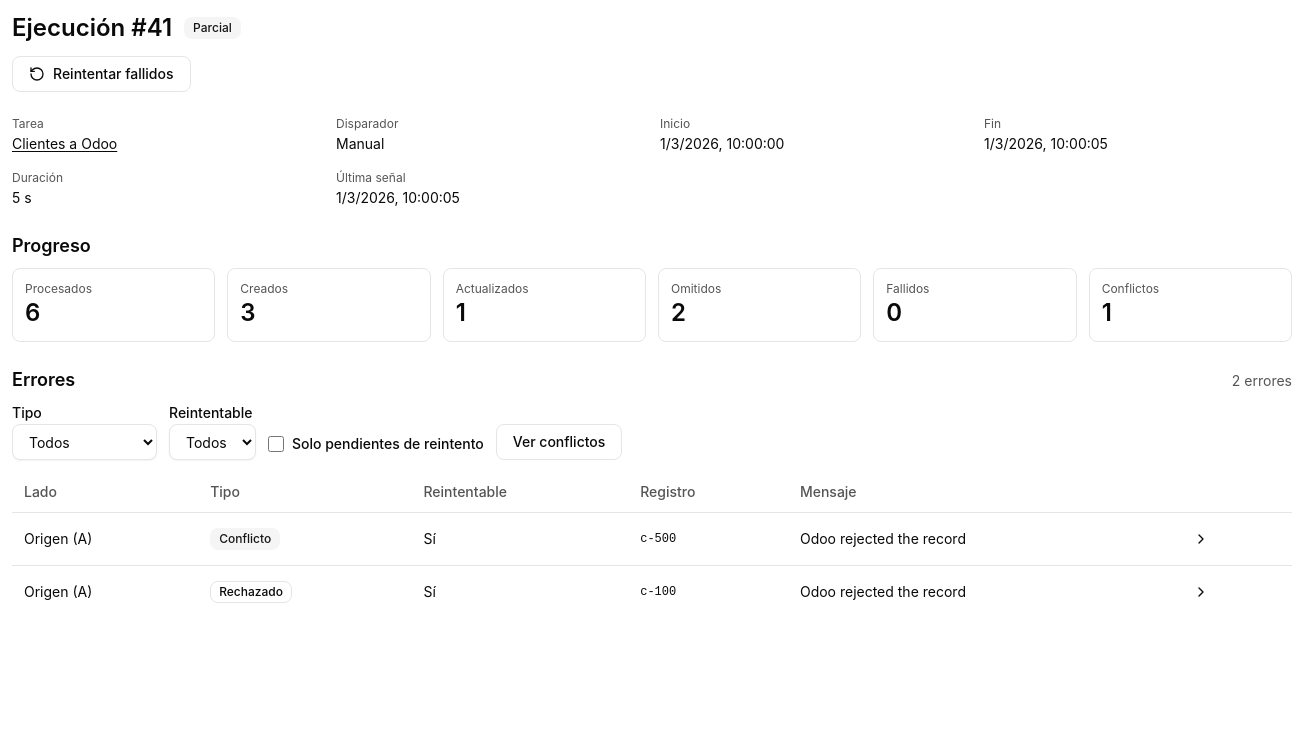
Test: RunDetailPage errors › points at the conflicts through the kind filter
This screenshot has width=1304, height=732.
Click the button "Ver conflictos". click: (559,442)
box: [496,424,622,460]
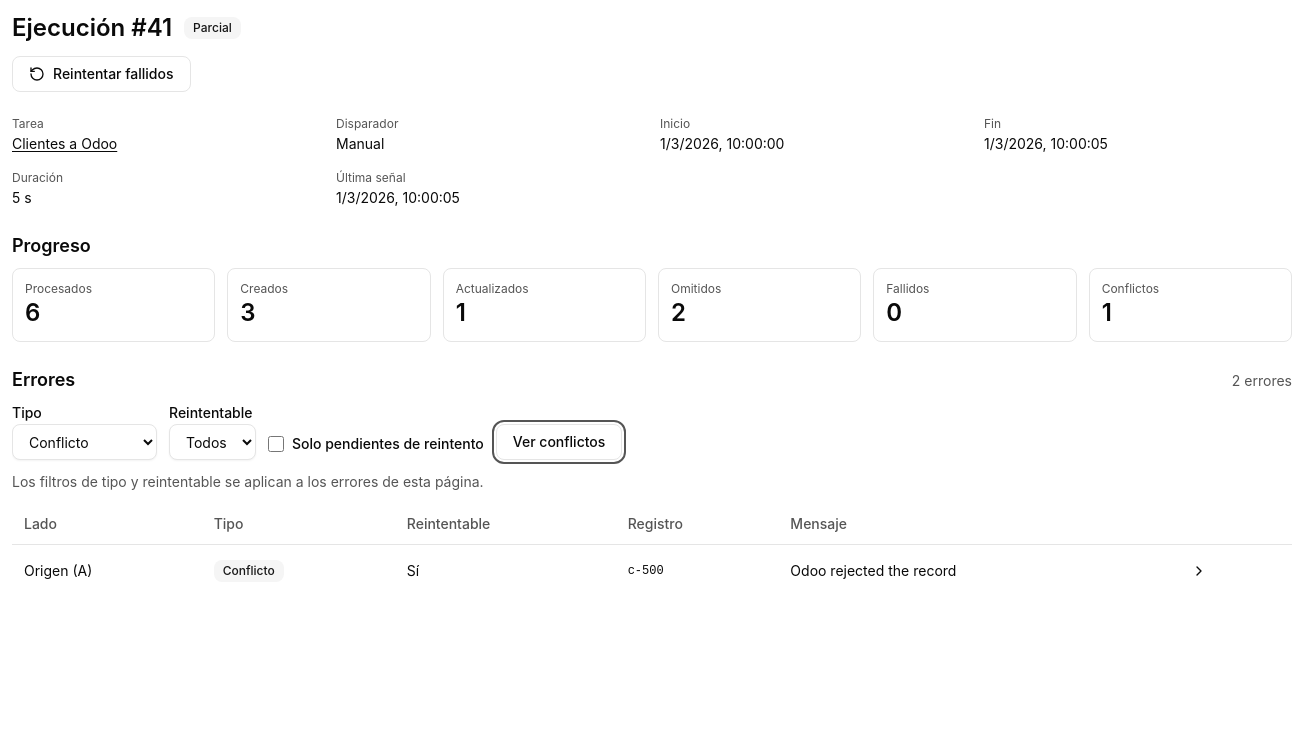
Expected: the text "c-500" is shown, [616,544,778,596]
Now the dropdown labelled "Tipo" shows "Conflicto", box [12,424,157,460]
Now the text "c-100" is gone
